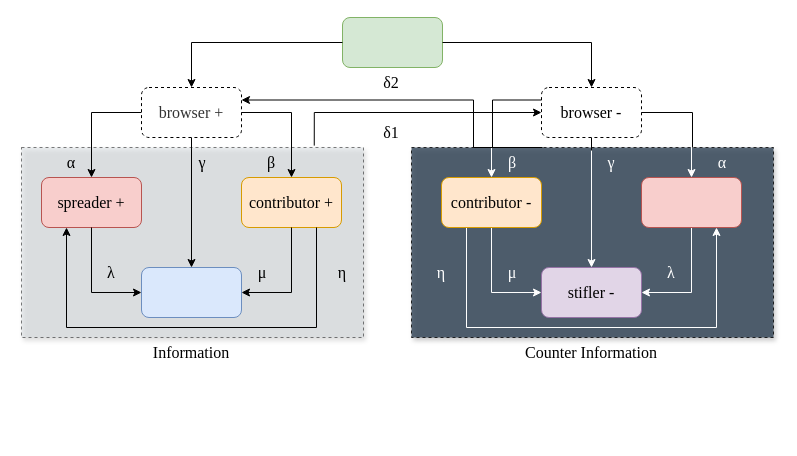
Some shapes in this 797 by 456 pixel diagram are drawn without their labels. The shapes that lost their labels are listed below. From the top down, each one's centre as x and y in pixels, then its label:
At (392,42): "ignorant".
At (691,202): "spreader -".
At (191,292): "stifler +".
